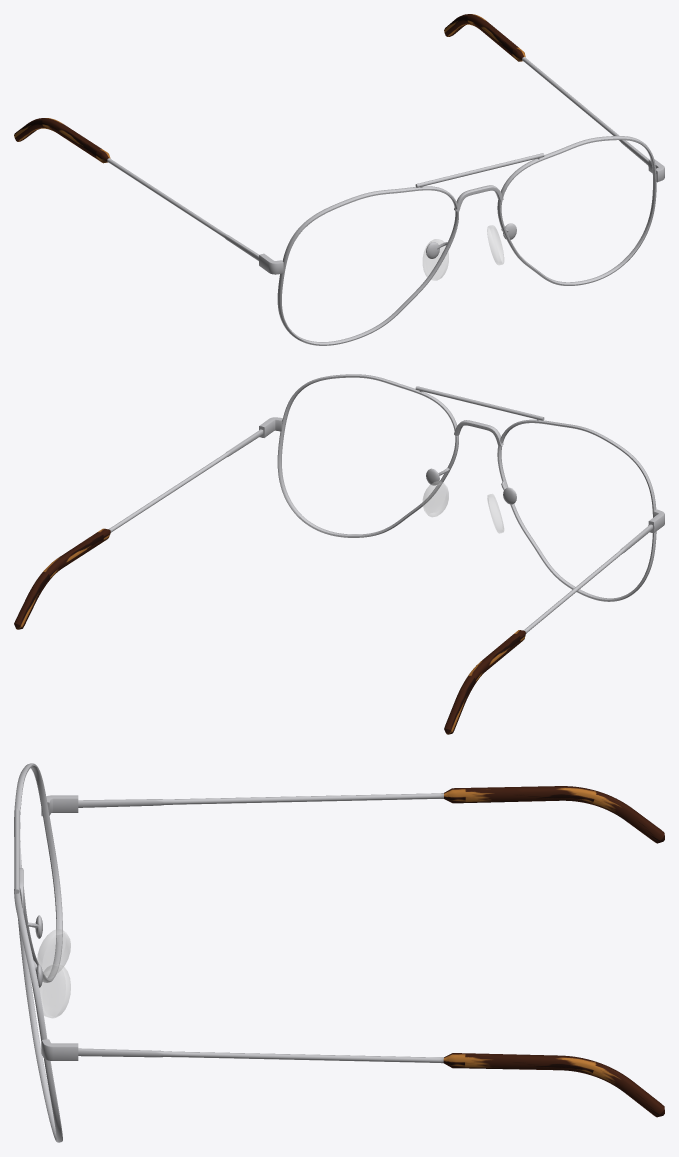
The model's file is trendi-aviador-3d.glb.
The picture shows the model from 3 angles, top to bottom: view 1: azimuth 30°, elevation 25°; view 2: azimuth 150°, elevation 25°; view 3: azimuth 270°, elevation 25°; orthographic projection. The views are drawn at different scales.
Parts seen in each view (by area): view 1: aro_der, aro_izq, varilla_der, varilla_izq, puente, plaqueta_der, plaqueta_izq; view 2: aro_izq, varilla_izq, aro_der, varilla_der, puente, plaqueta_izq, plaqueta_der; view 3: varilla_izq, varilla_der, aro_izq, aro_der, plaqueta_izq, plaqueta_der, puente.
Part boxes in pixels (x1,y1,x2,y2): aro_der: (259,186,458,345); aro_izq: (497,136,664,285); varilla_der: (14,118,258,260); varilla_izq: (444,14,648,165); puente: (415,153,544,211); plaqueta_der: (423,239,448,280); plaqueta_izq: (487,223,516,264); aro_izq: (259,374,458,537); varilla_izq: (14,429,263,629); aro_der: (497,419,664,601); varilla_der: (444,524,652,734); puente: (415,386,544,446); plaqueta_izq: (423,468,449,516); plaqueta_der: (487,481,516,533); varilla_izq: (78,1048,664,1117); varilla_der: (78,786,664,843); aro_izq: (14,888,78,1142); aro_der: (14,763,78,982); plaqueta_izq: (33,961,70,1017); plaqueta_der: (27,915,70,976); puente: (14,808,23,911).
Bounding box in the file's own units: 0.1532 × 0.0521 × 0.1511.
Materials: 3 (1 with a texture image).
